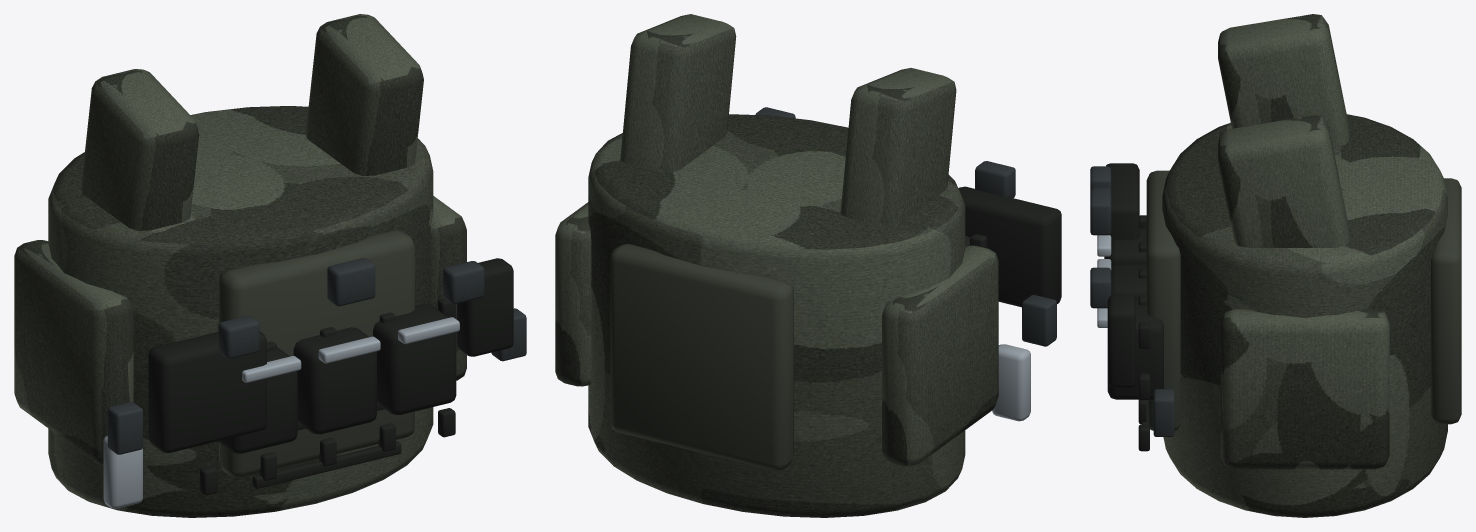
The model's file is gear_armor_6b2.glb.
The picture shows the model from 3 angles, left to right: view 1: azimuth 30°, elevation 25°; view 2: azimuth 150°, elevation 25°; view 3: azimuth 270°, elevation 25°; orthographic projection. The views are drawn at different scales.
Visible parts, largest first — view 1: Gear; view 2: Gear; view 3: Gear.
Boxes of the visible parts, x1,y1,x2,y2 form: Gear: (14,14,526,517); Gear: (555,14,1061,517); Gear: (1090,14,1461,517).
Bounding box in the file's own units: 0.62 × 0.5819 × 0.5275.
5 materials, 2 textured.
